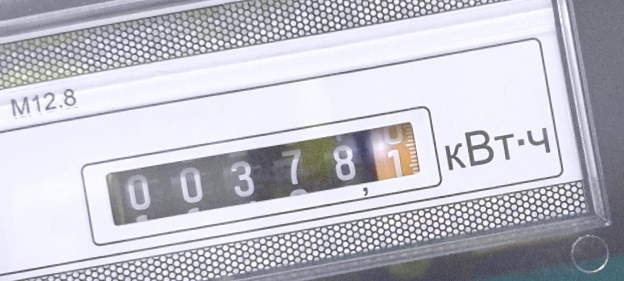0: (123, 169, 155, 212), (175, 163, 205, 205), (380, 122, 405, 146)
1: (383, 145, 406, 179)
3: (226, 156, 257, 200)
7: (278, 145, 306, 187)
8: (329, 140, 358, 183)
screen: (81, 100, 442, 238)
